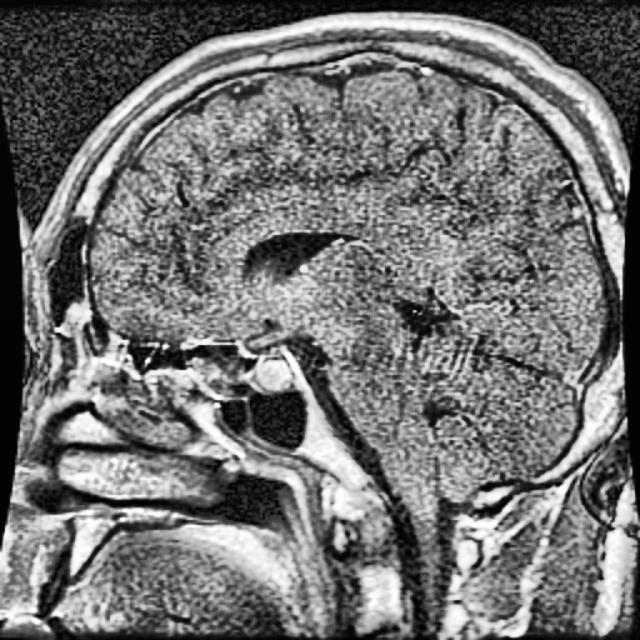Pituitary: (245, 353, 293, 390)
